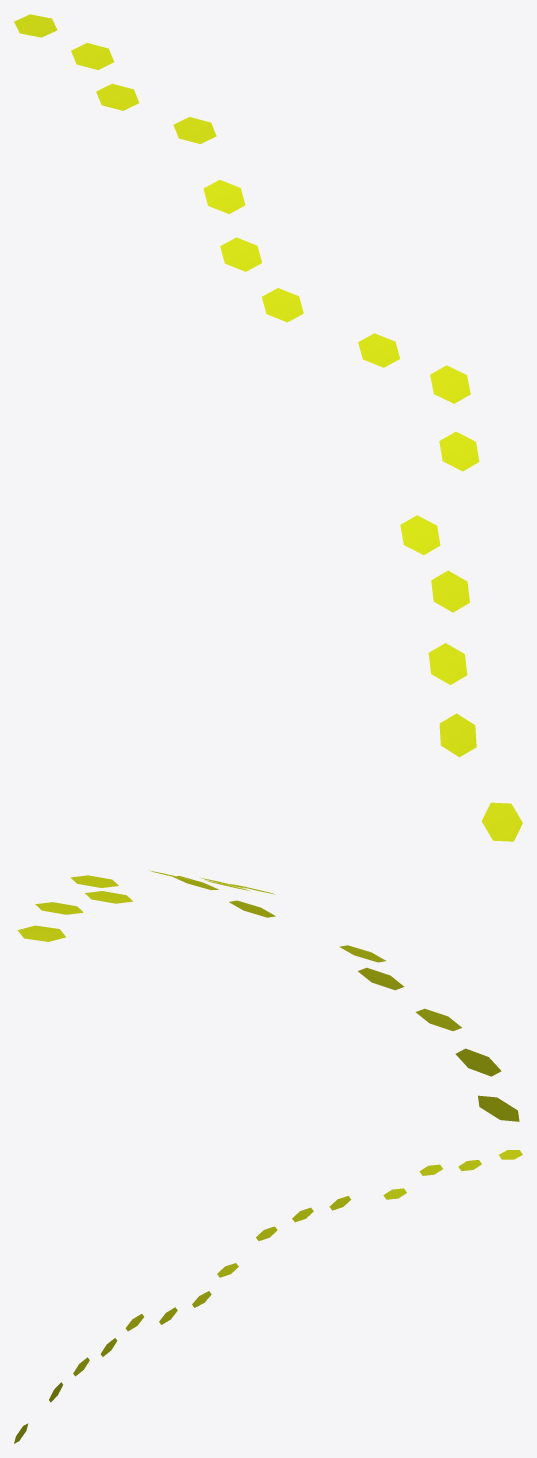
File: seg1LevelPoints.fbx
3 views of the same model, one above another, from view 1: azimuth 30°, elevation 25°; view 2: azimuth 150°, elevation 25°; view 3: azimuth 270°, elevation 25° (orthographic). The views are drawn at different scales.
Visible parts, largest first — view 1: Cone015, Cone014, Cone045, Cone016, Cone047, Cone046, Cone048, Cone051, Cone052, Cone049, Cone050; view 2: Cone014, Cone015, Cone057, Cone045, Cone016, Cone054, Cone056, Cone055, Cone046, Cone047; view 3: no part large enough to name.
Part boxes in pixels (x1,y1,x2,y2): Cone015: [439, 713, 476, 757]; Cone014: [481, 802, 522, 841]; Cone045: [431, 570, 469, 612]; Cone016: [428, 643, 467, 684]; Cone047: [439, 431, 479, 471]; Cone046: [400, 515, 440, 555]; Cone048: [430, 365, 470, 403]; Cone051: [220, 237, 261, 271]; Cone052: [203, 179, 245, 213]; Cone049: [358, 333, 399, 367]; Cone050: [262, 288, 303, 322]; Cone014: [478, 1095, 519, 1121]; Cone015: [455, 1048, 501, 1076]; Cone057: [17, 925, 65, 941]; Cone045: [358, 967, 404, 990]; Cone016: [415, 1008, 461, 1030]; Cone054: [70, 875, 118, 887]; Cone056: [35, 902, 83, 914]; Cone055: [85, 891, 132, 903]; Cone046: [339, 945, 385, 962]; Cone047: [229, 900, 275, 917].
Bounding box in the file's own units: 17.63 × 47.85 × 78.53.
